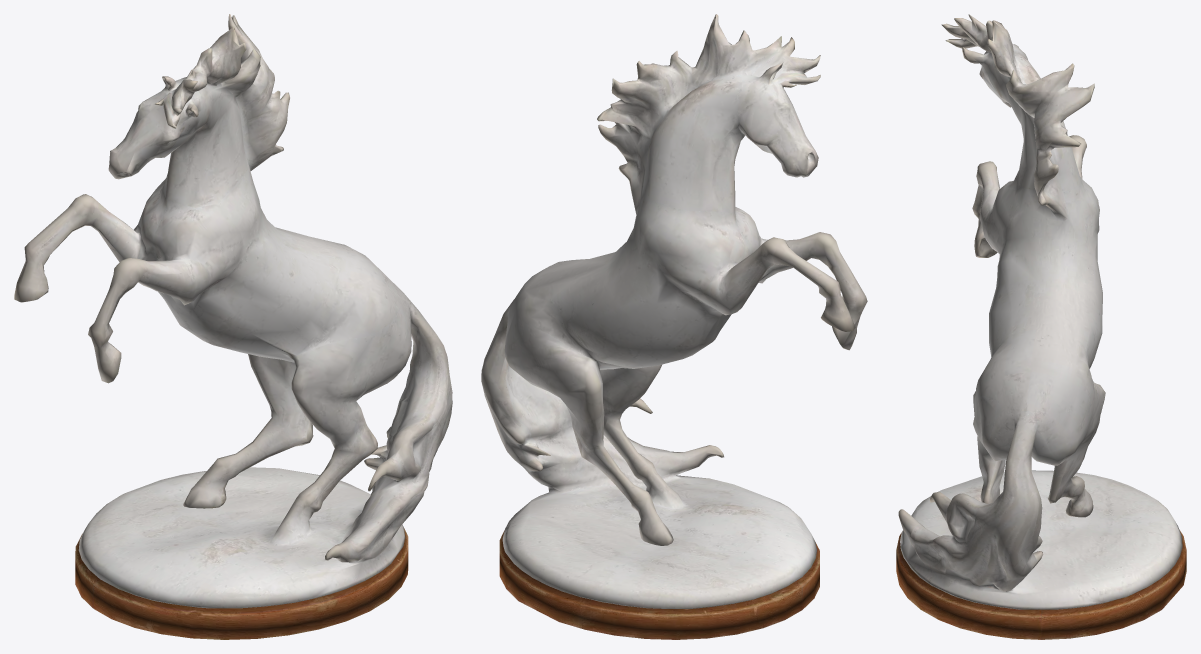
Rendered from horse_statue_01.glb.
3 views of the same model, side by side, from view 1: azimuth 30°, elevation 25°; view 2: azimuth 150°, elevation 25°; view 3: azimuth 270°, elevation 25° (orthographic). The views are drawn at different scales.
Parts seen in each view (by area): view 1: horse_statue_01; view 2: horse_statue_01; view 3: horse_statue_01.
Part boxes in pixels (x1,y1,x2,y2): horse_statue_01: (14, 14, 452, 639); horse_statue_01: (481, 14, 867, 639); horse_statue_01: (896, 14, 1186, 639).
Bounding box in the file's own units: 0.1638 × 0.2199 × 0.1078.
Materials: 1 (1 with a texture image).
